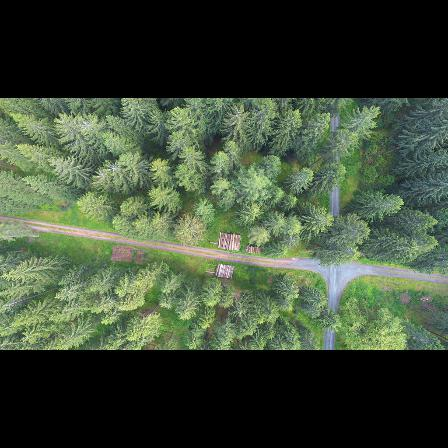Sick: (105, 158, 123, 177)
